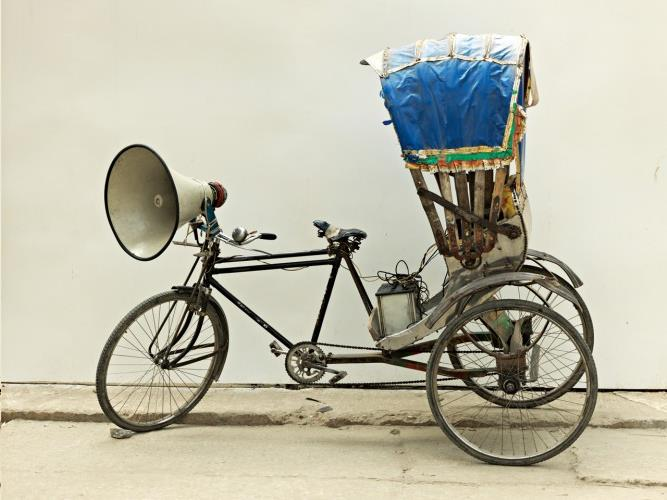Rickshaw: (84, 21, 605, 483)
